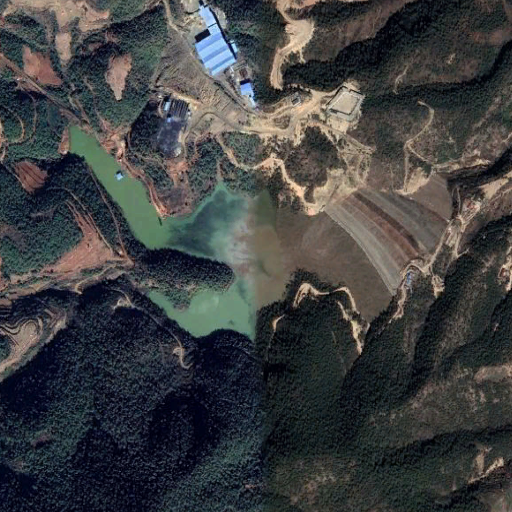tp: (64, 126, 457, 343)
